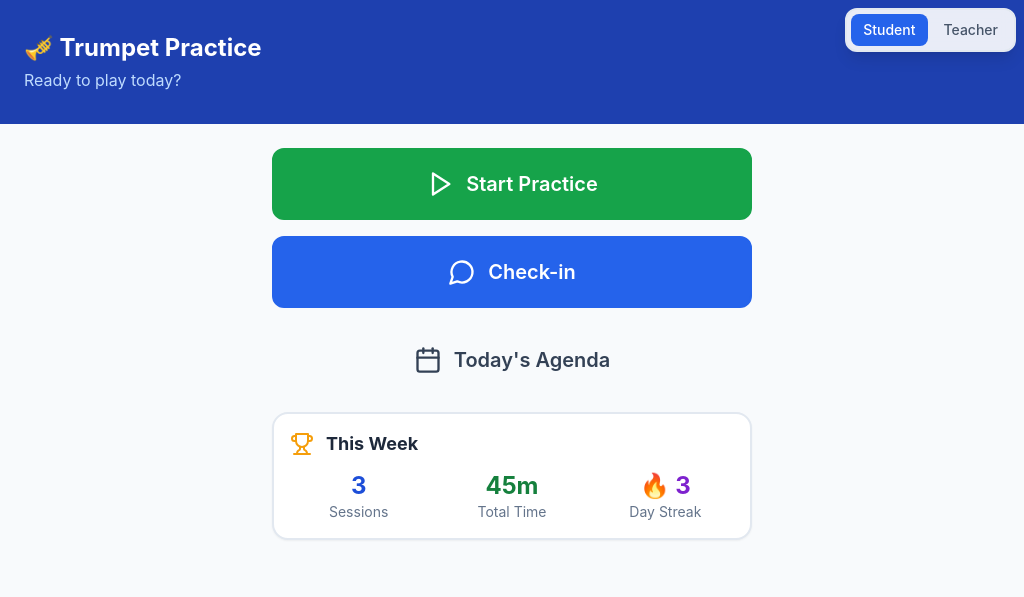
it: App › switches to teacher view
Click the button "Teacher": {"x": 971, "y": 30} [932, 14, 1010, 46]
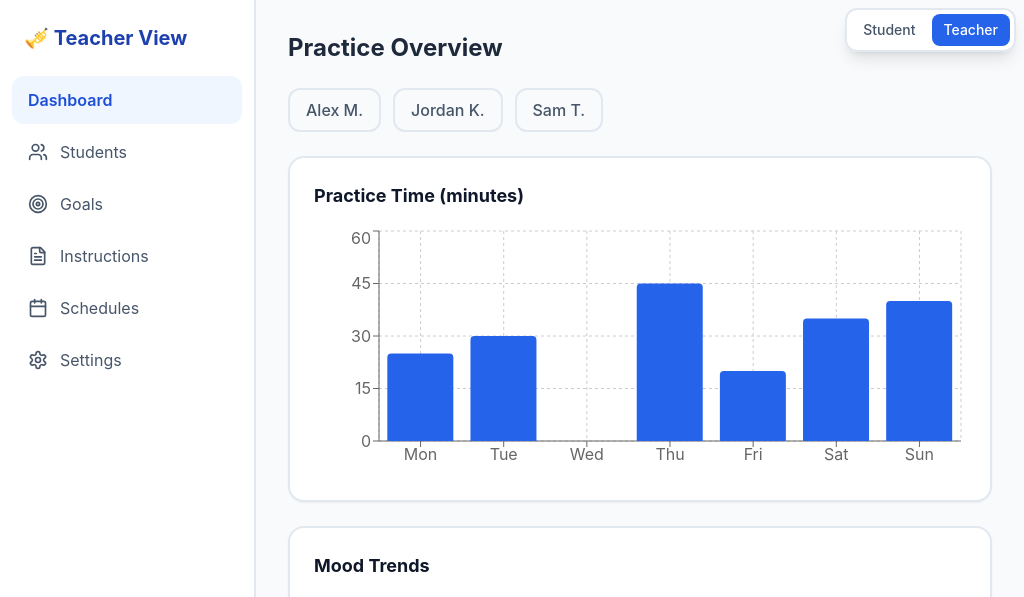
Check: the heading "🎺 Teacher View" is shown, box [24, 26, 187, 50]
